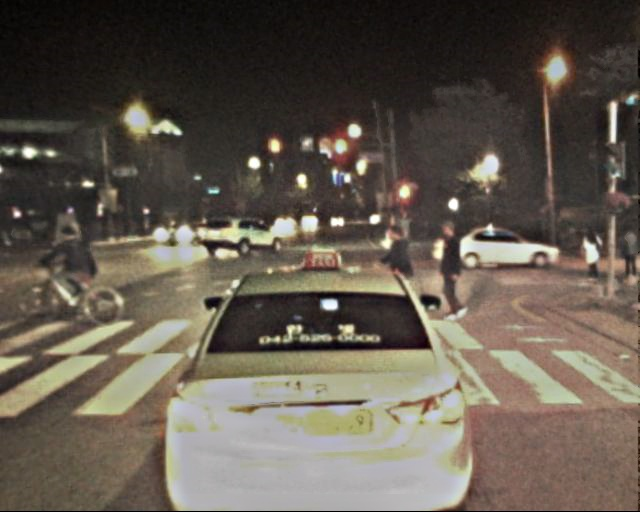person: (377, 223, 420, 329), (433, 222, 476, 327), (59, 222, 98, 316), (578, 226, 604, 289), (616, 224, 640, 286)
